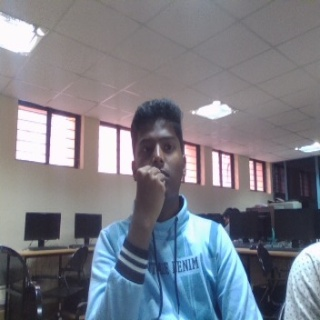Food: (131, 164, 170, 236)
